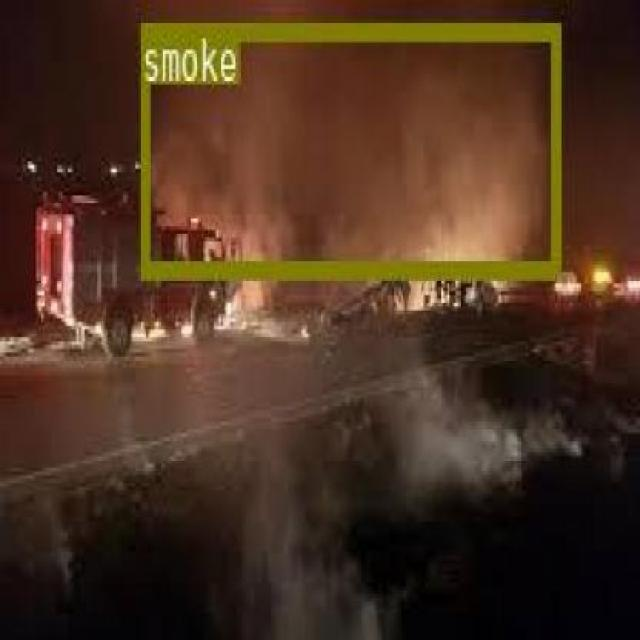Smoke: (140, 20, 558, 274)
